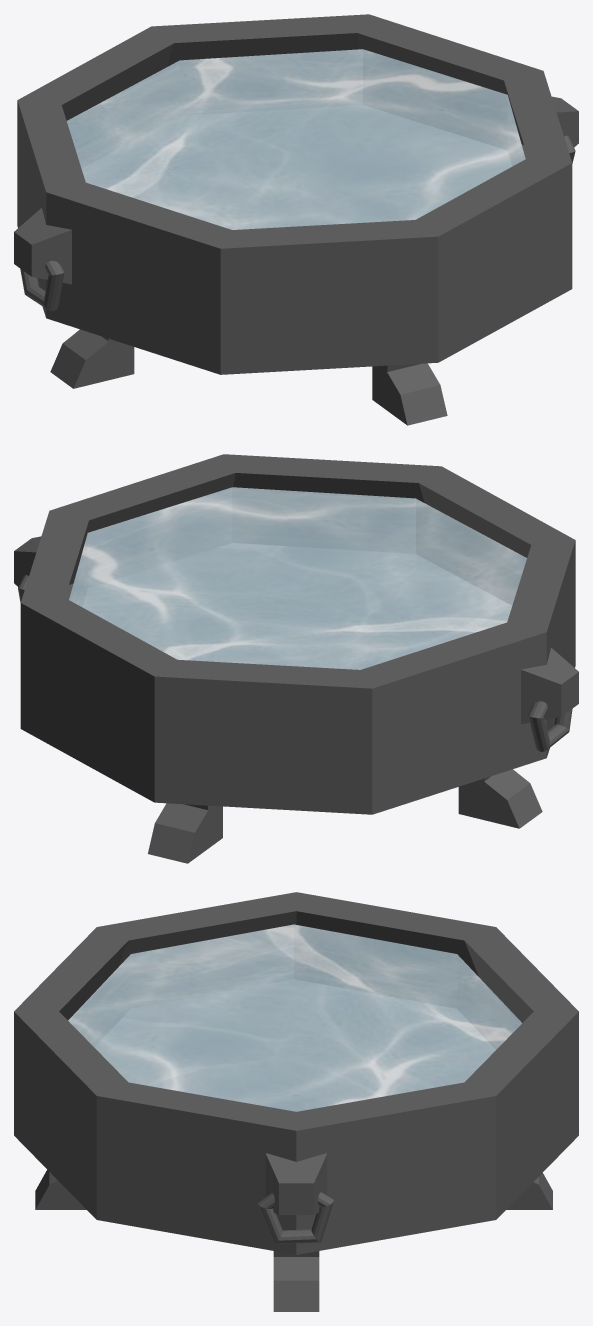
The model's file is BaciaDaForja.fbx.
The picture shows the model from 3 angles, top to bottom: view 1: azimuth 30°, elevation 25°; view 2: azimuth 150°, elevation 25°; view 3: azimuth 270°, elevation 25°; orthographic projection.
Visible parts, largest first — view 1: BaciaDeAgua; view 2: BaciaDeAgua; view 3: BaciaDeAgua.
Boxes of the visible parts, x1,y1,x2,y2 form: BaciaDeAgua: (14,14,578,425); BaciaDeAgua: (14,454,578,863); BaciaDeAgua: (14,892,578,1311).
Size of the model in its own units: 220 by 73.8 by 200.
